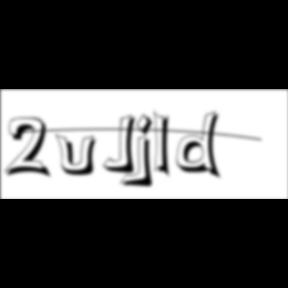2: (5, 117, 55, 181)
J: (104, 114, 142, 176)
d: (177, 110, 227, 182)
j: (134, 113, 160, 191)
l: (154, 108, 178, 182)
u: (55, 132, 103, 178)
